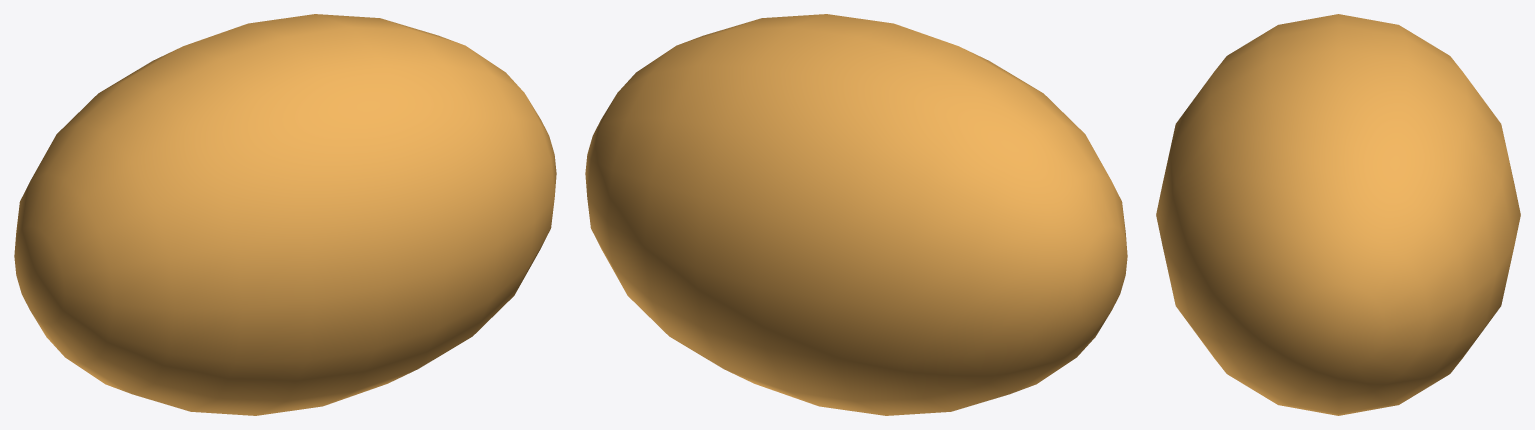
Rendered from Oval_01.fbx.
3 renders of one model, left to right at view 1: azimuth 30°, elevation 25°; view 2: azimuth 150°, elevation 25°; view 3: azimuth 270°, elevation 25°, orthographic. The views are drawn at different scales.
Parts seen in each view (by area): view 1: Oval_01; view 2: Oval_01; view 3: Oval_01.
Boxes of the visible parts, x1,y1,x2,y2 form: Oval_01: [14, 14, 556, 415]; Oval_01: [585, 14, 1127, 415]; Oval_01: [1156, 14, 1520, 415].
Bounding box in the file's own units: 408 × 272 × 272.
